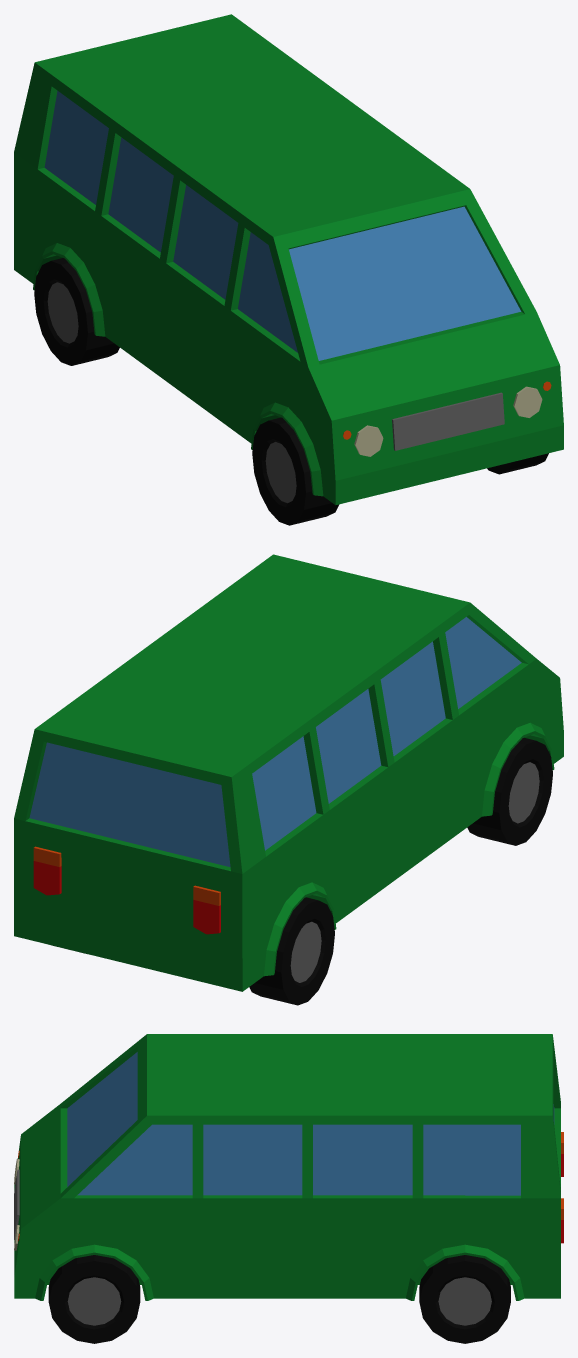
Rendered from car-minibus-green.obj.
The picture shows the model from 3 angles, top to bottom: view 1: azimuth 30°, elevation 25°; view 2: azimuth 150°, elevation 25°; view 3: azimuth 270°, elevation 25°; orthographic projection. The views are drawn at different scales.
Parts seen in each view (by area): view 1: car-minibus-green_Cube.601_carmaterial_green, car-minibus-green_Cube.601_windows, car-minibus-green_Cube.601_tires, car-minibus-green_Cube.601_metal, car-minibus-green_Cube.601_lights; view 2: car-minibus-green_Cube.601_carmaterial_green, car-minibus-green_Cube.601_windows, car-minibus-green_Cube.601_tires, car-minibus-green_Cube.601_metal, car-minibus-green_Cube.601_lights.red, car-minibus-green_Cube.601_lights.orange; view 3: car-minibus-green_Cube.601_carmaterial_green, car-minibus-green_Cube.601_windows, car-minibus-green_Cube.601_tires, car-minibus-green_Cube.601_metal.
Part boxes in pixels (box(x1,y1,x2,y2)): car-minibus-green_Cube.601_carmaterial_green: box(14, 14, 563, 505); car-minibus-green_Cube.601_windows: box(44, 90, 521, 360); car-minibus-green_Cube.601_tires: box(34, 258, 548, 525); car-minibus-green_Cube.601_metal: box(47, 282, 504, 503); car-minibus-green_Cube.601_lights: box(354, 386, 542, 456); car-minibus-green_Cube.601_carmaterial_green: box(14, 554, 563, 991); car-minibus-green_Cube.601_windows: box(29, 617, 521, 867); car-minibus-green_Cube.601_tires: box(53, 737, 552, 1005); car-minibus-green_Cube.601_metal: box(290, 762, 539, 982); car-minibus-green_Cube.601_lights.red: box(33, 861, 220, 934); car-minibus-green_Cube.601_lights.orange: box(33, 846, 220, 905); car-minibus-green_Cube.601_carmaterial_green: box(14, 1034, 560, 1300); car-minibus-green_Cube.601_windows: box(67, 1052, 554, 1195); car-minibus-green_Cube.601_tires: box(48, 1255, 510, 1343); car-minibus-green_Cube.601_metal: box(14, 1169, 491, 1325).
Size of the model in its own units: 0.954 by 0.945 by 2.16.
